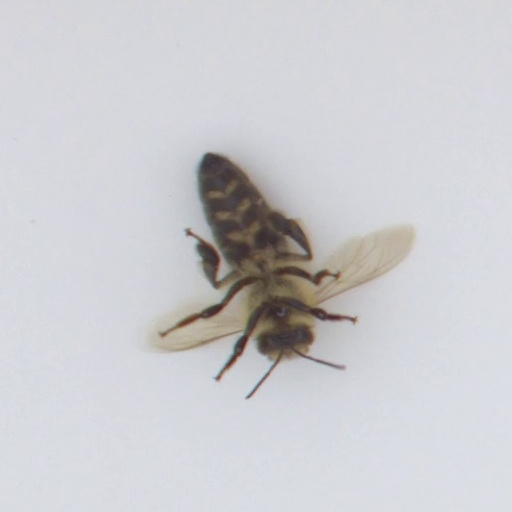Bee: (184, 144, 343, 375)
